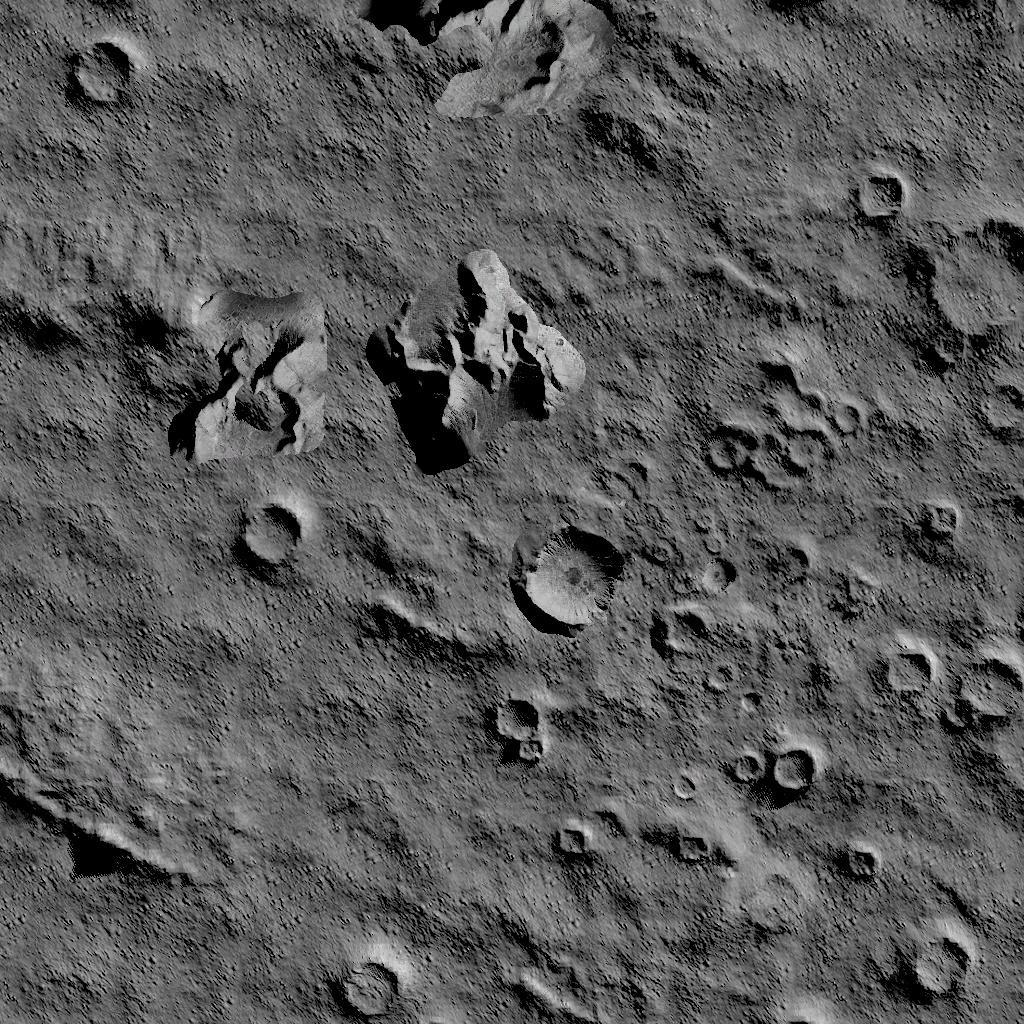Boulders: (0, 218, 334, 470), (367, 248, 590, 482), (344, 0, 622, 135), (0, 756, 198, 898), (332, 512, 504, 668)
Crater: (688, 350, 868, 492), (919, 206, 1024, 438), (863, 638, 1024, 751), (513, 514, 638, 648), (321, 936, 467, 1024), (648, 554, 740, 672), (49, 33, 142, 133), (892, 926, 986, 1016), (725, 725, 825, 807), (229, 496, 315, 590), (482, 690, 562, 775), (842, 164, 907, 231), (828, 830, 888, 902), (656, 818, 722, 879), (912, 497, 969, 551), (544, 812, 600, 864), (743, 2, 843, 26), (765, 1011, 838, 1024)
Plan surface: (3, 484, 214, 726), (242, 688, 472, 900), (168, 6, 331, 204), (1, 924, 299, 1024), (762, 34, 1022, 132)
